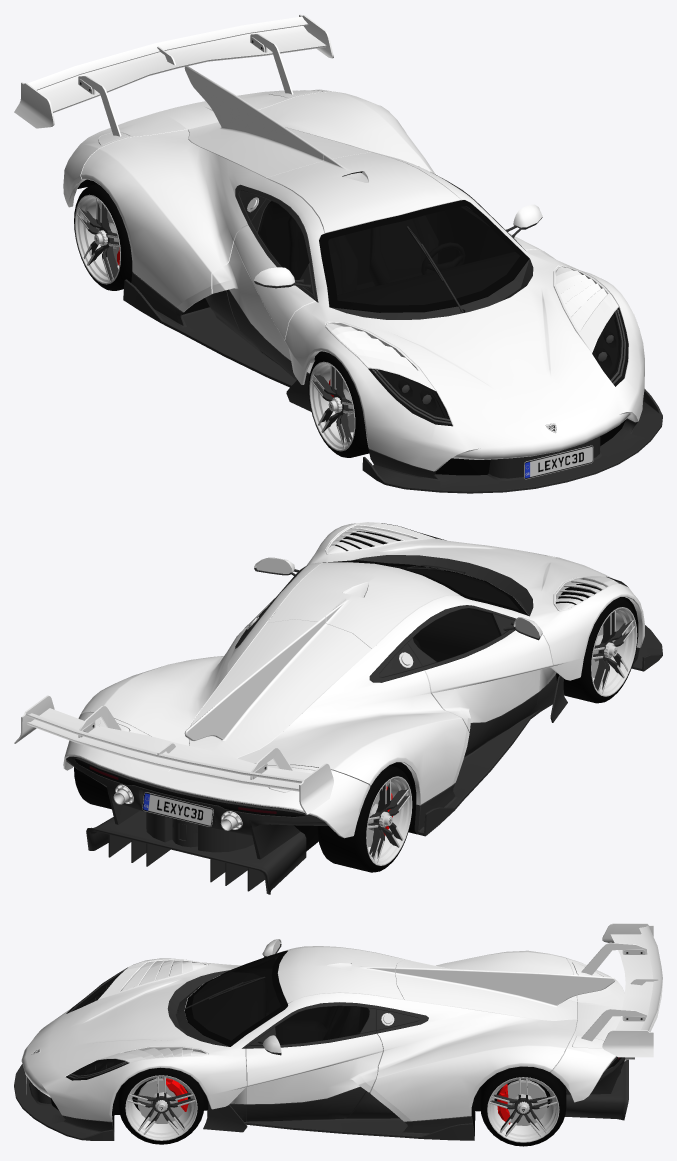
Rendered from rossa.glb.
3 renders of one model, top to bottom at view 1: azimuth 30°, elevation 25°; view 2: azimuth 150°, elevation 25°; view 3: azimuth 270°, elevation 25°, orthographic. The views are drawn at different scales.
Visible parts, largest first — view 1: Object_5, Object_11, Object_6, Object_13_Wheel, Object_8, Object_14_Wheel, Object_11_WheelFragment_Wheel, Object_3, Object_16, Object_7; view 2: Object_5, Object_11, Object_14_Wheel, Object_6, Object_13_Wheel, Object_11_WheelFragment_Wheel, Object_3, Object_16, Object_4, Object_10, Object_8, Object_9; view 3: Object_5, Object_11, Object_6, Object_13_Wheel, Object_14_Wheel, Object_15_Wheel, Object_11_WheelFragment_Wheel, Object_8, Object_3, Object_12_Wheel, Object_10.
Boxes of the visible parts, bbox=[...] form: Object_5: bbox=[14, 14, 644, 471]; Object_11: bbox=[80, 40, 662, 493]; Object_6: bbox=[258, 201, 628, 426]; Object_13_Wheel: bbox=[74, 194, 355, 451]; Object_8: bbox=[319, 200, 529, 312]; Object_14_Wheel: bbox=[74, 184, 369, 457]; Object_11_WheelFragment_Wheel: bbox=[79, 201, 353, 445]; Object_3: bbox=[77, 171, 625, 475]; Object_16: bbox=[524, 445, 593, 479]; Object_7: bbox=[372, 309, 625, 423]; Object_5: bbox=[14, 522, 644, 838]; Object_11: bbox=[66, 555, 662, 894]; Object_14_Wheel: bbox=[74, 537, 637, 872]; Object_6: bbox=[268, 523, 628, 662]; Object_13_Wheel: bbox=[366, 607, 637, 865]; Object_11_WheelFragment_Wheel: bbox=[368, 611, 632, 859]; Object_3: bbox=[122, 531, 638, 851]; Object_16: bbox=[142, 792, 213, 826]; Object_4: bbox=[74, 758, 304, 816]; Object_10: bbox=[80, 555, 616, 830]; Object_8: bbox=[323, 561, 528, 615]; Object_9: bbox=[256, 559, 539, 638]; Object_5: bbox=[21, 923, 662, 1121]; Object_11: bbox=[14, 944, 642, 1140]; Object_6: bbox=[66, 953, 369, 1080]; Object_13_Wheel: bbox=[125, 1075, 559, 1142]; Object_14_Wheel: bbox=[118, 1066, 566, 1146]; Object_15_Wheel: bbox=[137, 1078, 547, 1125]; Object_11_WheelFragment_Wheel: bbox=[131, 1079, 553, 1135]; Object_8: bbox=[184, 950, 287, 1046]; Object_3: bbox=[51, 965, 549, 1135]; Object_12_Wheel: bbox=[163, 1078, 510, 1124]; Object_10: bbox=[31, 949, 645, 1112].
Bounding box in the file's own units: 1.91 × 0.9742 × 4.5.
15 materials, 1 textured.
